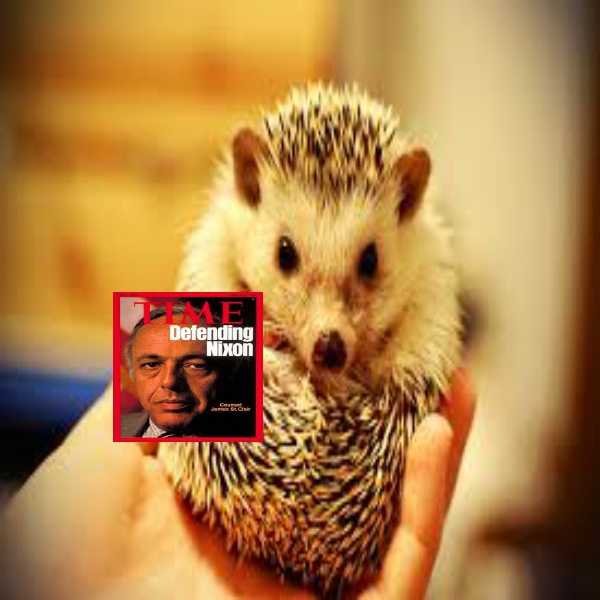time_cover: (103, 285, 268, 444)
